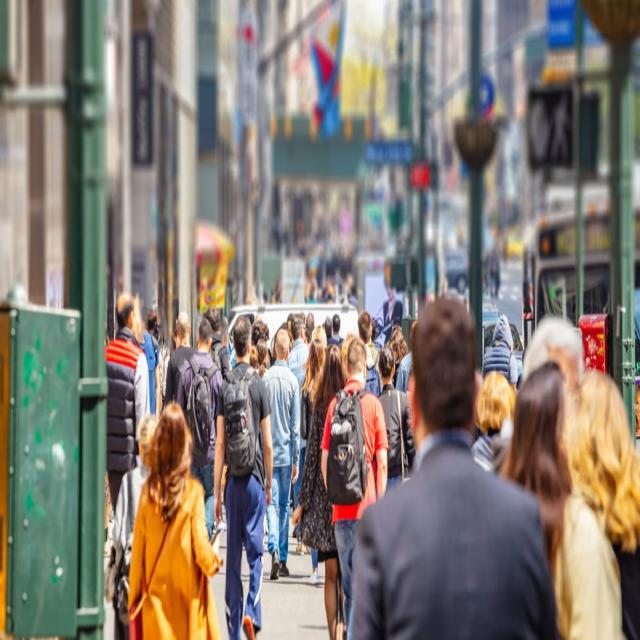Backpacks: (327, 394, 367, 504), (224, 370, 256, 476), (188, 371, 212, 454)
